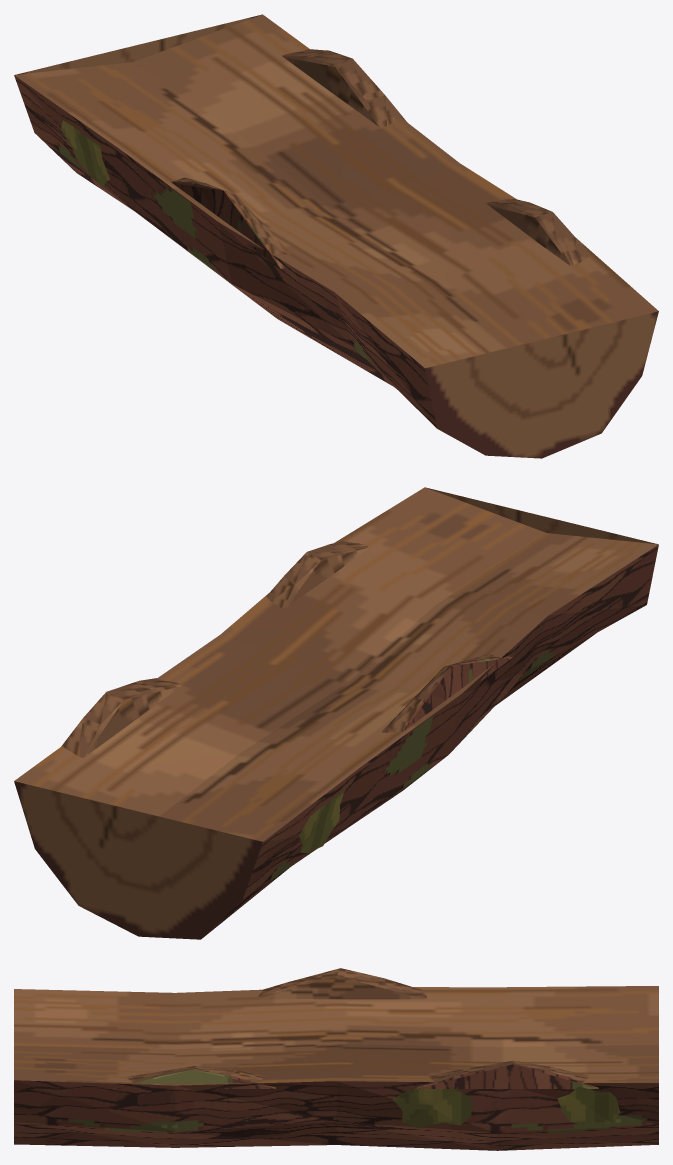
The model's file is SM_DW02_LogSplit.fbx.
The picture shows the model from 3 angles, top to bottom: view 1: azimuth 30°, elevation 25°; view 2: azimuth 150°, elevation 25°; view 3: azimuth 270°, elevation 25°; orthographic projection. The views are drawn at different scales.
Visible parts, largest first — view 1: DW02_Wood, DW02_Bark, DW02_Moss; view 2: DW02_Wood, DW02_Bark, DW02_Moss; view 3: DW02_Wood, DW02_Bark, DW02_Moss.
Boxes of the visible parts, left/top/right/bottom form: DW02_Wood: left=14, top=14, right=658, bottom=458; DW02_Bark: left=14, top=75, right=436, bottom=428; DW02_Moss: left=60, top=120, right=109, bottom=188; DW02_Wood: left=14, top=487, right=658, bottom=939; DW02_Bark: left=203, top=544, right=658, bottom=937; DW02_Moss: left=299, top=789, right=344, bottom=852; DW02_Wood: left=14, top=968, right=658, bottom=1088; DW02_Bark: left=14, top=1064, right=658, bottom=1150; DW02_Moss: left=393, top=1086, right=619, bottom=1127.
Bounding box in the file's own units: 1.17 × 0.7075 × 3.2.
